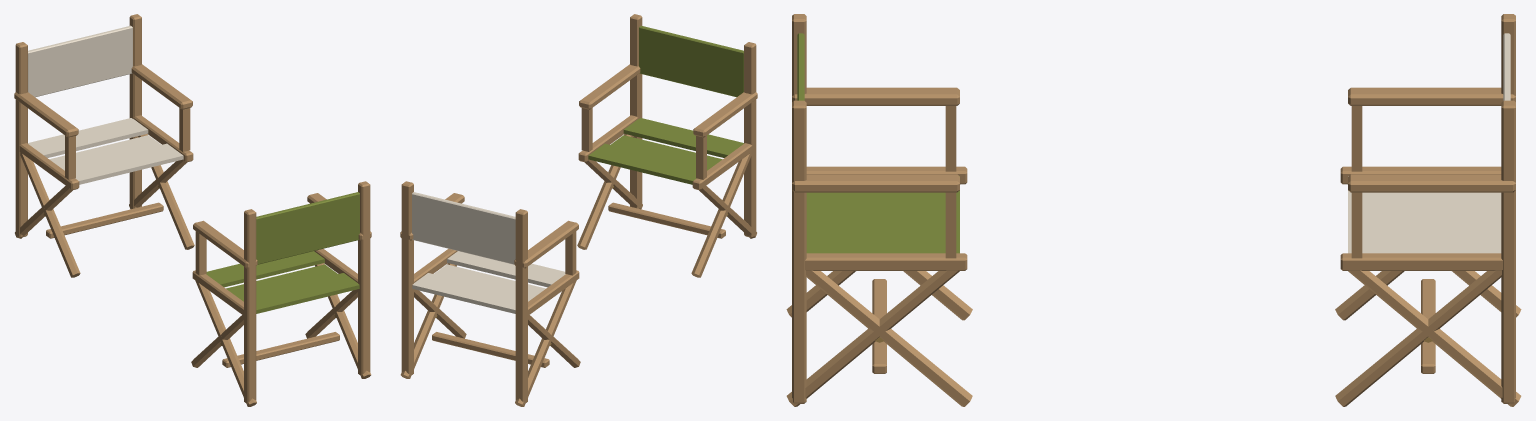
3 views of the same model, side by side, from view 1: azimuth 30°, elevation 25°; view 2: azimuth 150°, elevation 25°; view 3: azimuth 270°, elevation 25° (orthographic). The views are drawn at different scales.
Parts seen in each view (by area): view 1: body; view 2: body; view 3: body.
Boxes of the visible parts, box(x1,y1,x2,y2) form: body: box(14, 14, 371, 406); body: box(400, 14, 757, 406); body: box(786, 14, 1521, 406).
Bounding box in the file's own units: 0.62 × 0.9162 × 2.01.
